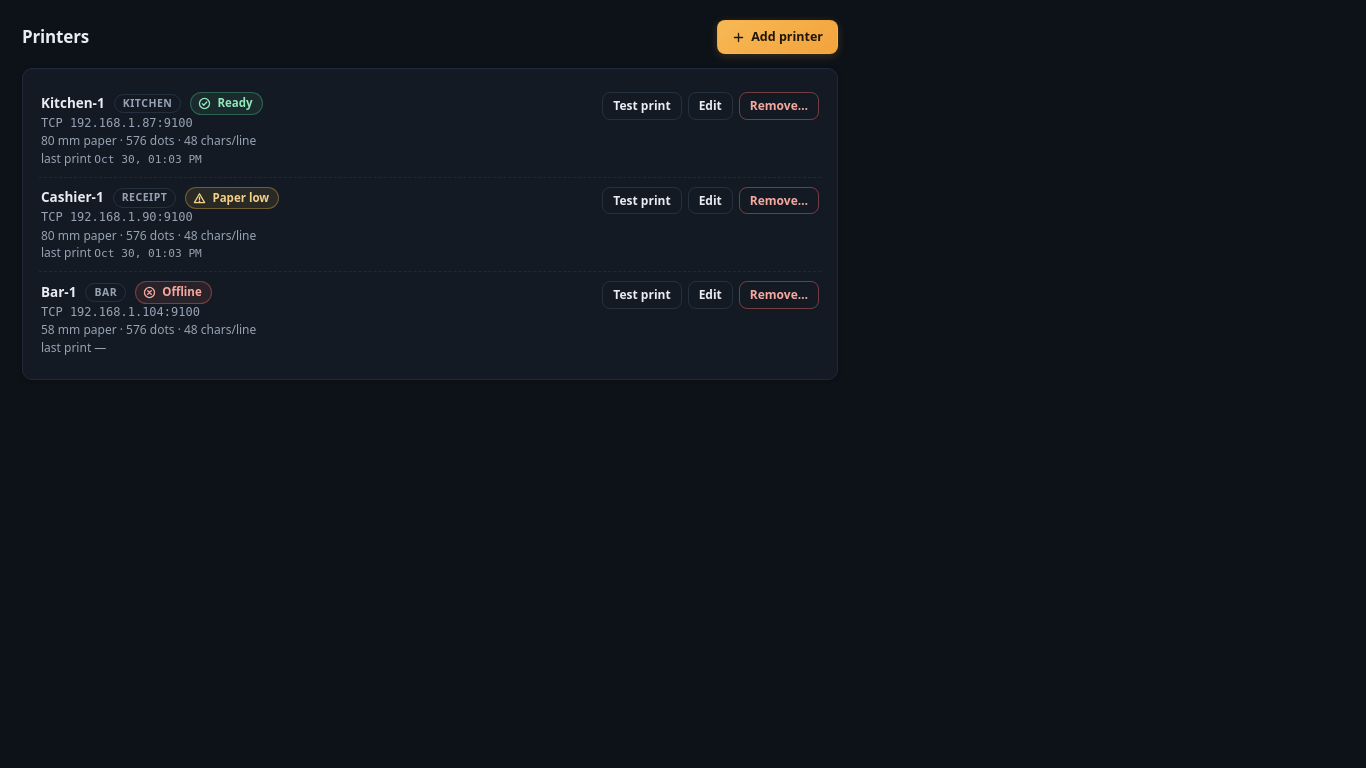
Scenario: PrintersScreen › adds a spooler printer via the Windows-printer dropdown
The image size is (1366, 768).
Click the button "Add printer". click: (778, 37)
box: [717, 20, 838, 54]
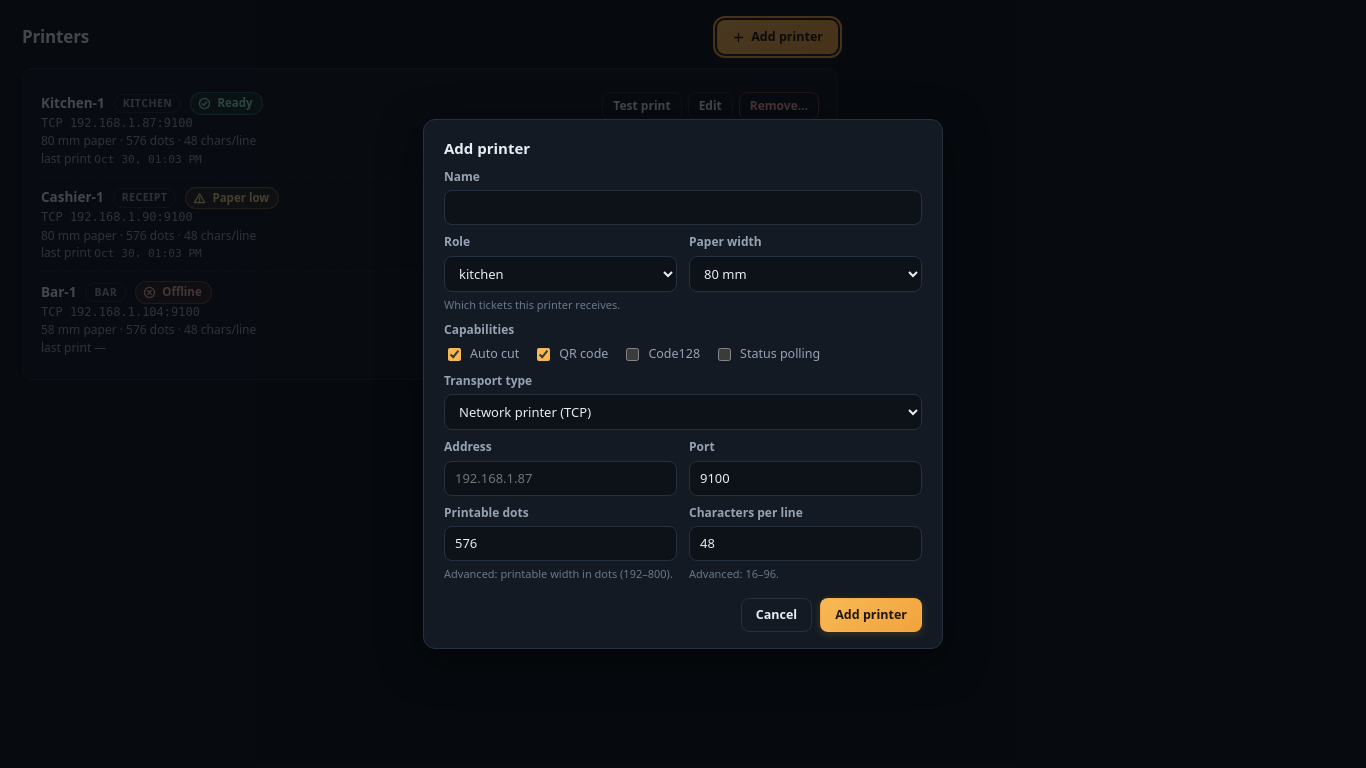
Select "Windows printer (driver)" in the dropdown labelled "Transport type". click: (683, 412)
box: [444, 394, 922, 430]
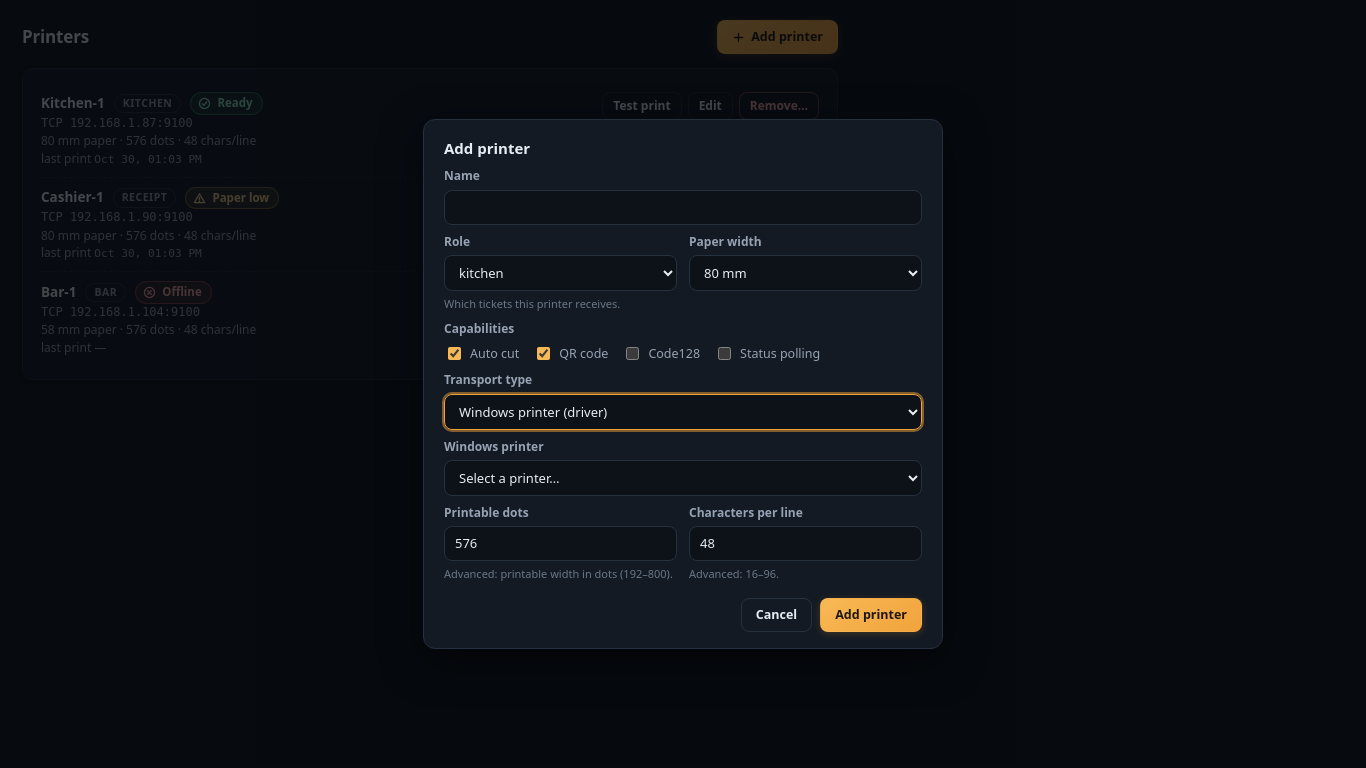
Select "EPSON TM-T20 (Copy 1)" in the dropdown labelled "Windows printer". click: (683, 478)
box: [444, 460, 922, 496]
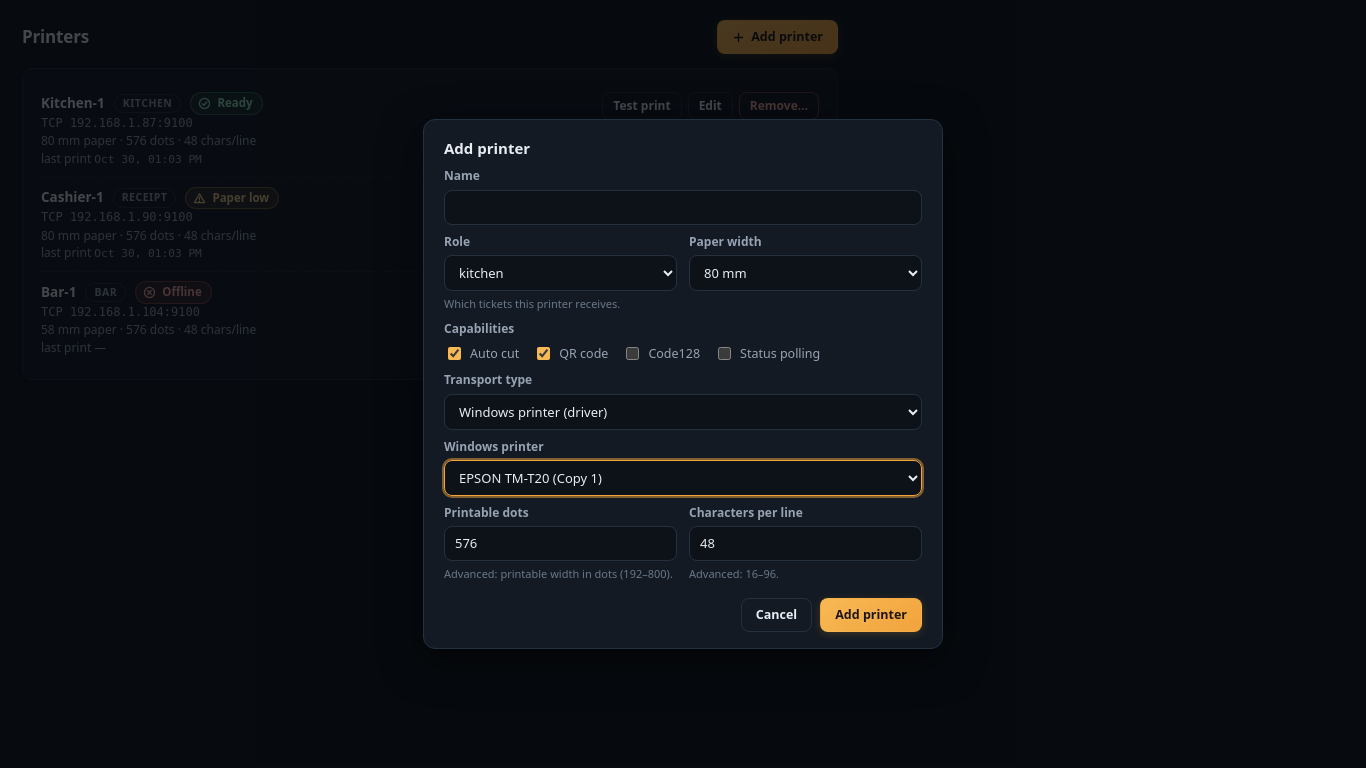
Type "Front desk" into the field labelled "Name". click: (683, 207)
box: [444, 190, 922, 225]
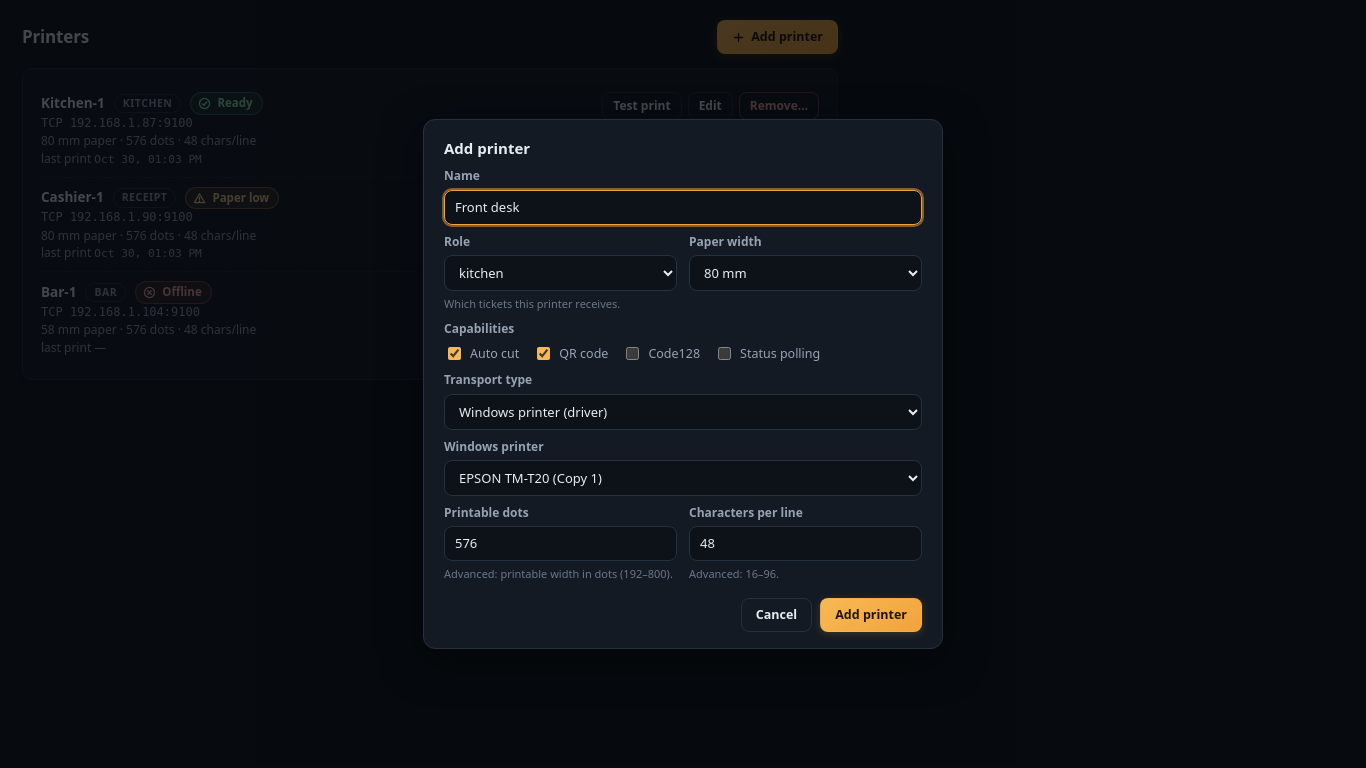
Click the button "Add printer". click: (871, 615)
box: [820, 598, 922, 632]
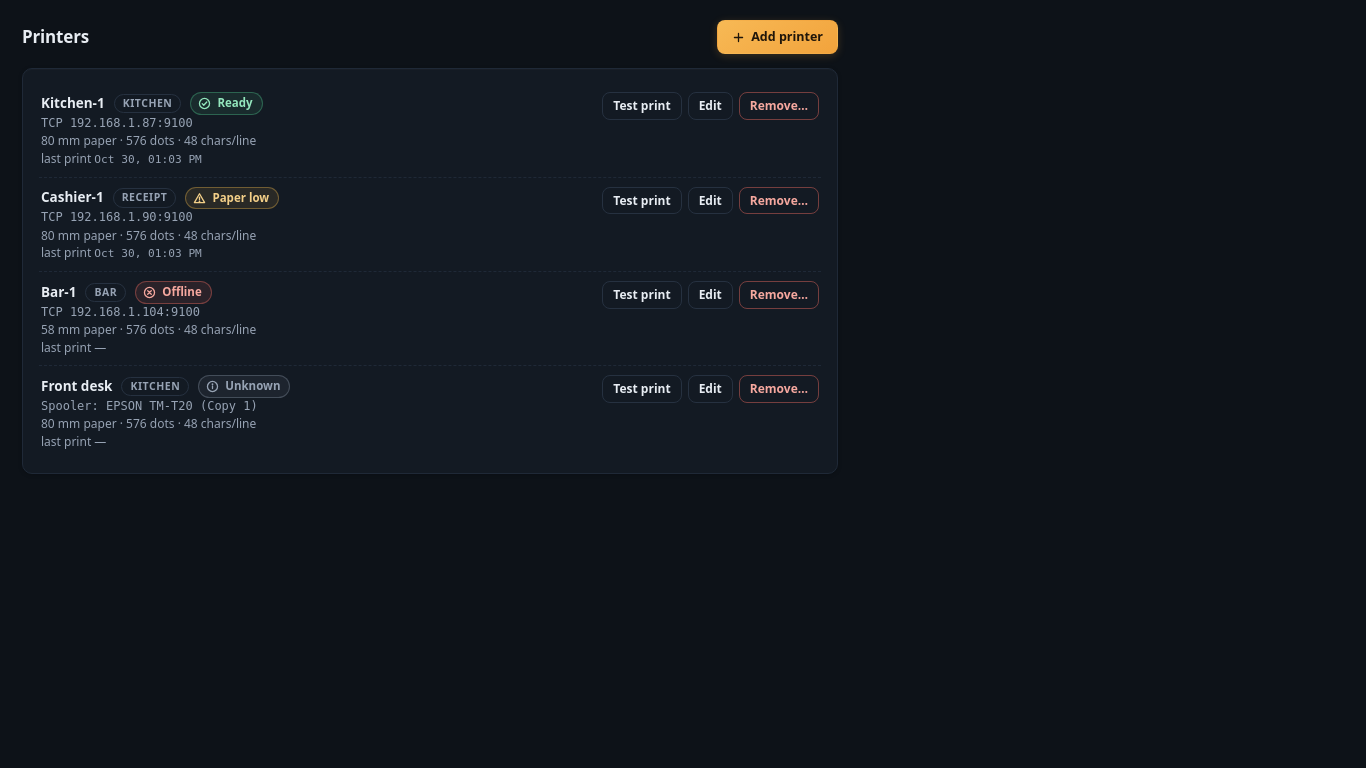
Now the list item "Front desk" shows "Spooler: EPSON TM-T20 (Copy 1)", box [41, 399, 258, 413]
